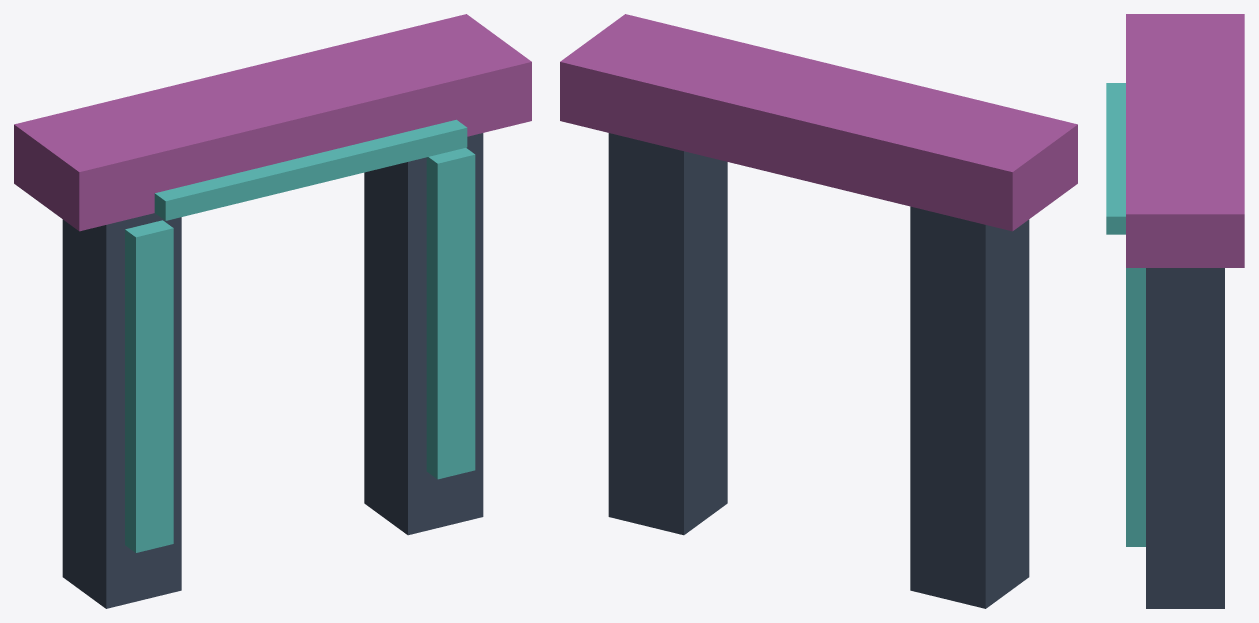
Rendered from gate.glb.
3 renders of one model, left to right at view 1: azimuth 30°, elevation 25°; view 2: azimuth 150°, elevation 25°; view 3: azimuth 270°, elevation 25°, orthographic. The views are drawn at different scales.
Parts seen in each view (by area): view 1: Shell; view 2: Shell; view 3: Shell.
Part boxes in pixels (<box>): Shell: <box>14,14,531,608</box>; Shell: <box>560,14,1077,608</box>; Shell: <box>1106,14,1244,608</box>.
Bounding box in the file's own units: 3 × 2.88 × 0.875.
